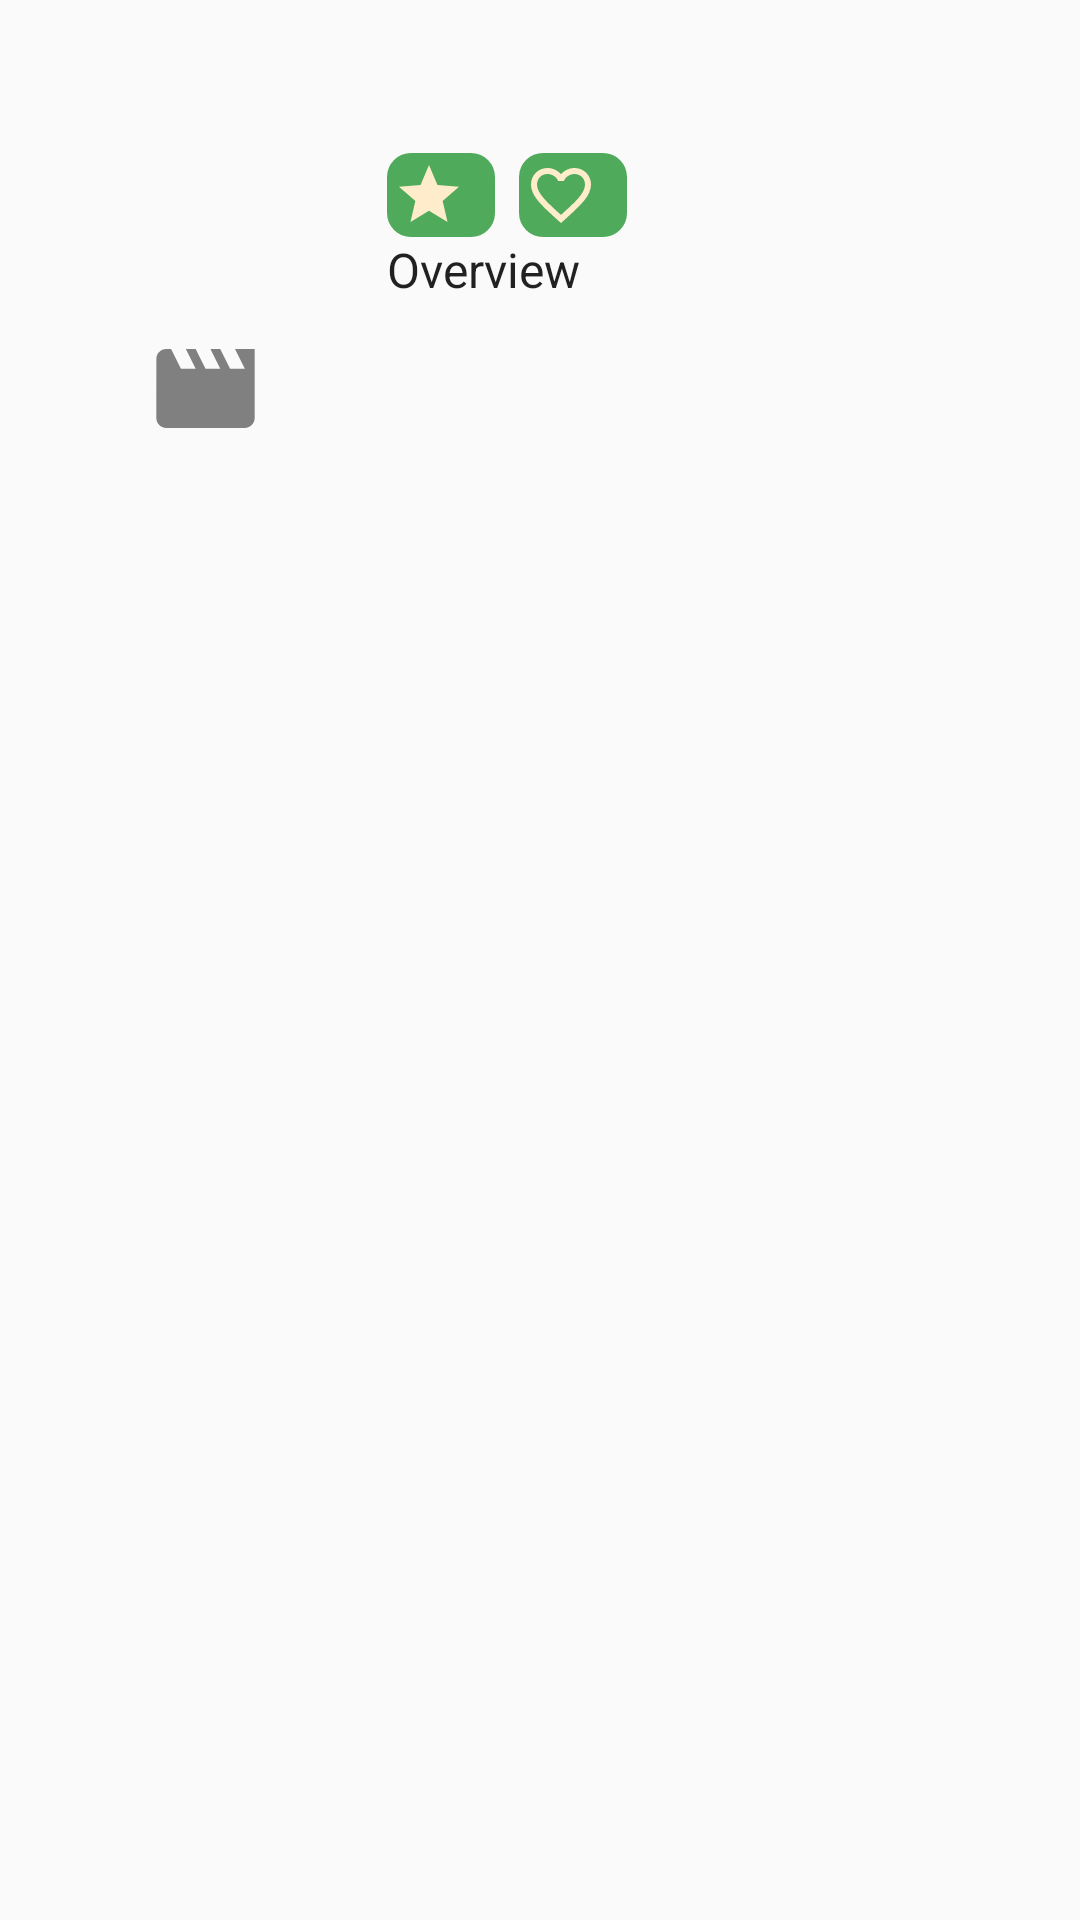

Point at icon controls on the screen. Image size 1080px x 1920px, points as [x,y].
bounds favorite: [561,195]
